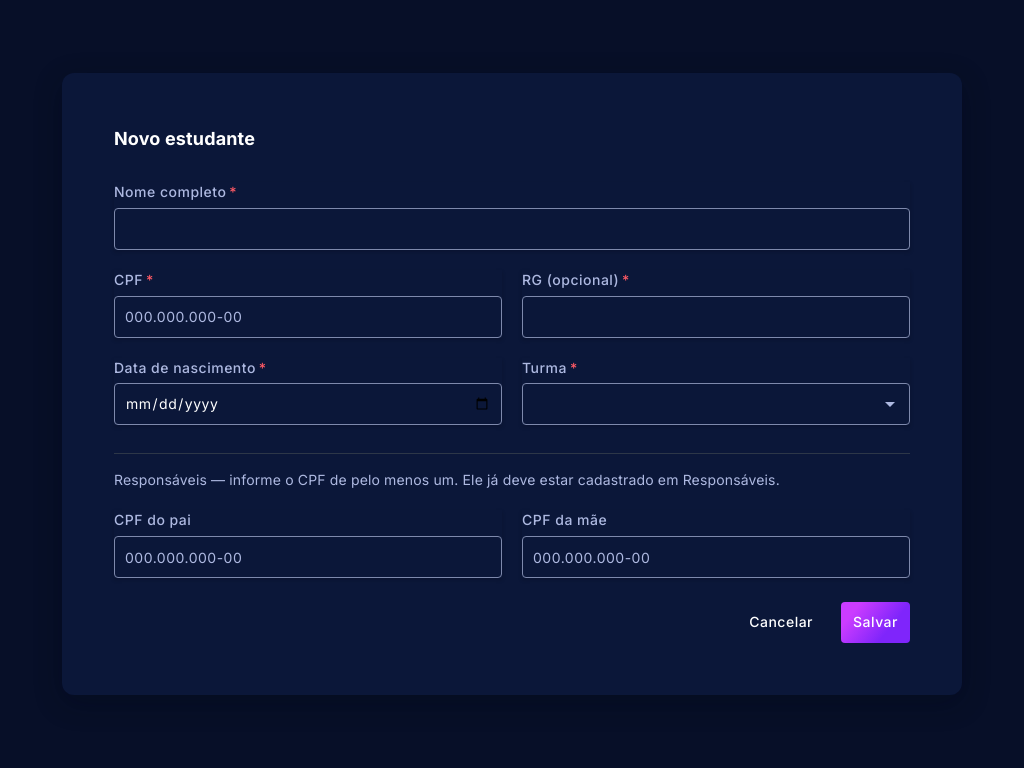
Test: StudentFormDialog › offers the cohorts with their grade, shift and year
Click the dropdown named "turma" at (716, 404), box [533,394,899,414]
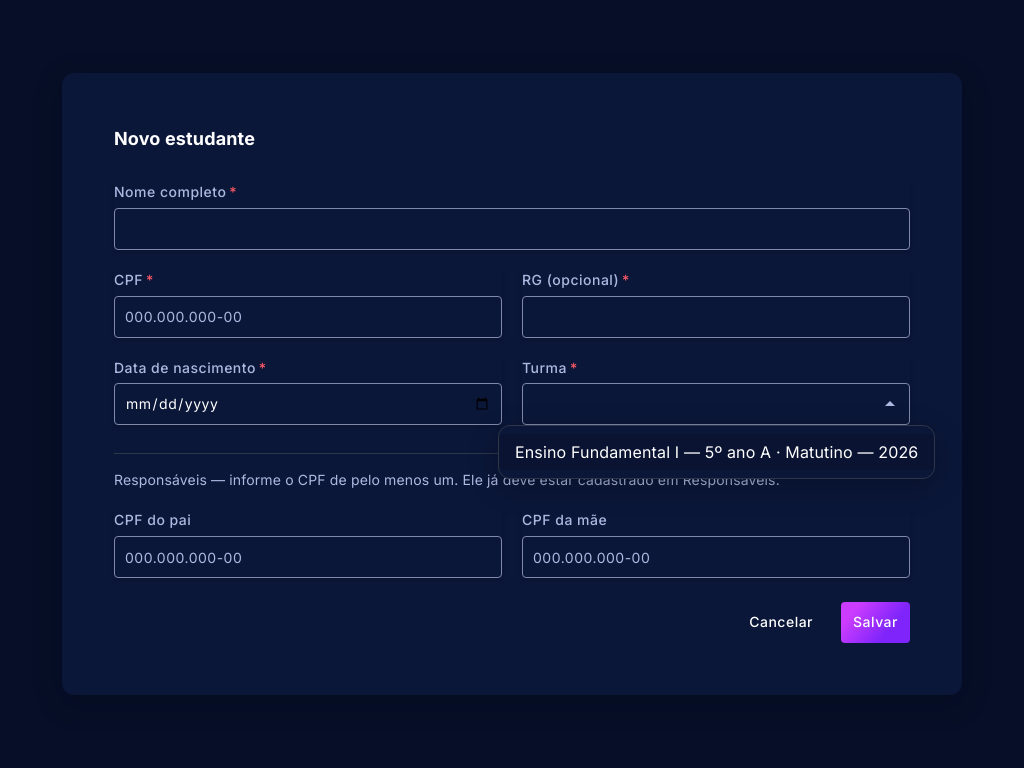
Now the option "Ensino Fundamental I — 5º ano A · Matutino — 2026" is shown, box [499,434,934,470]
